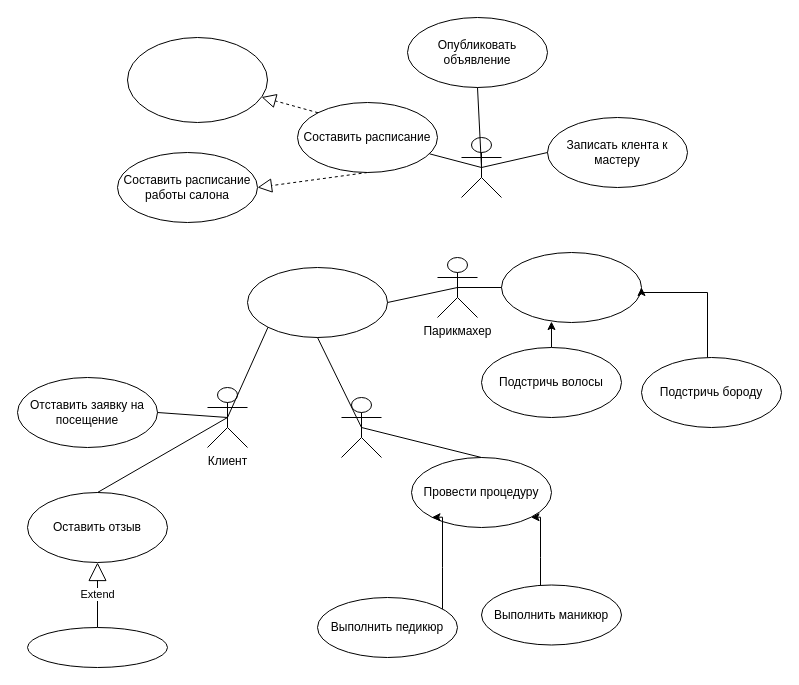
The diagram is 799 pixels wide and 685 high, and some of its shapes have lost their labels. The shapes that lost their labels are listed below. From the top down, each one's box as (x1, y1, x2, y2) in pixels, then its label:
(126, 36, 268, 122): Составить расписание работы мастеров
(460, 136, 502, 198): Администратор
(246, 266, 388, 338): Узнать расписание работы
(500, 252, 642, 322): Подстричь клиента
(340, 396, 382, 458): Косметолог
(26, 626, 168, 668): Прикрепить фото
